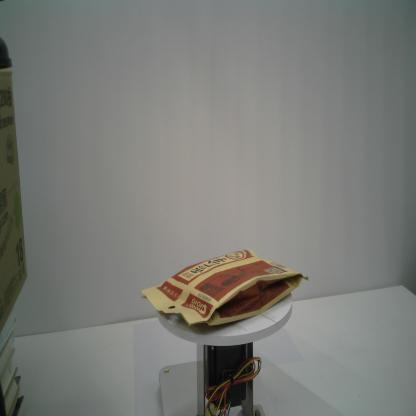Dried Food: (138, 246, 310, 330)
